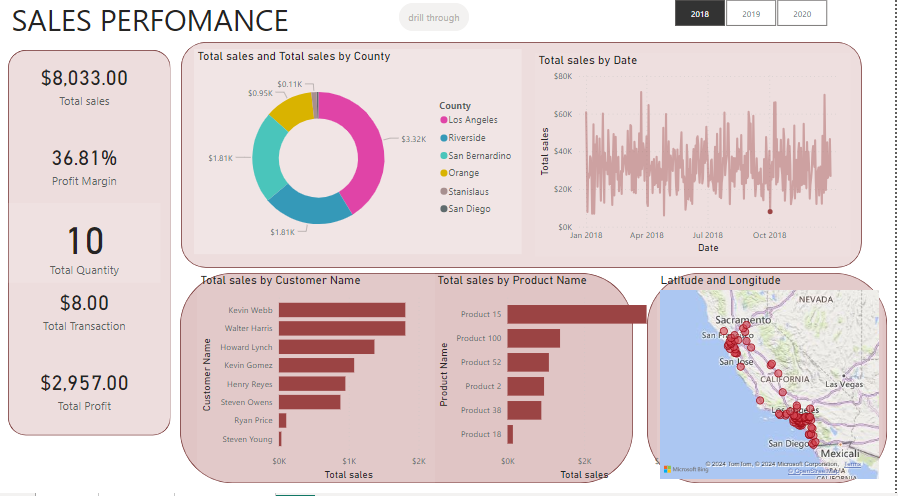

The page's visual inventory and layout, read from the dashboard file:
{"tool":"powerbi","page":{"name":"Page 1","canvas":[1280,720],"ordinal":0},"visuals":[{"type":"basicShape","box":[640.5,65,625.8,231.7],"z":0},{"type":"basicShape","box":[205.5,303,361.7,404.7],"z":1000},{"type":"basicShape","box":[579.7,303,336.5,404.7],"z":2000},{"type":"basicShape","box":[929.9,303,336.5,404.7],"z":3000},{"type":"basicShape","box":[10.5,65,184.5,642.6],"z":4000},{"type":"basicShape","box":[206.5,65,423.5,231.7],"z":5000},{"type":"textbox","box":[10.5,0,513.7,78.6],"z":6000},{"type":"donutChart","fields":{"Category":["Locations.County"],"Y":["Key Measures.Total Sales"]},"box":[209.7,78.6,420.4,218.1],"z":7000},{"type":"barChart","fields":{"Category":["Customers.Customer Name"],"Y":["Key Measures.Total Sales"]},"box":[225.4,314.5,331.3,379.5],"z":8000},{"type":"barChart","fields":{"Category":["Products.Product Name"],"Y":["Key Measures.Total Sales"]},"box":[590.2,314.5,317.6,379.5],"z":9000},{"type":"map","title":"Total Profits by Store Location","fields":{"Size":["Key Measures.Total Profits"],"Y":["Locations.Latitude"],"X":["Locations.Longitude"]},"box":[937.2,314.5,320.8,379.5],"z":10000},{"type":"columnChart","fields":{"Category":["Dates.Date"],"Y":["Key Measures.Total Sales"]},"box":[654.2,78.6,596.5,203.4],"z":11000},{"type":"slicer","fields":{"Values":["Dates.Year"]},"box":[836.6,10.5,233.8,50.3],"z":12000},{"type":"card","fields":{"Values":["Key Measures.Total Sales"]},"box":[11.5,83.9,188.7,101.7],"z":13000},{"type":"card","fields":{"Values":["Key Measures.Total Profits"]},"box":[12.6,193.9,188.7,101.7],"z":14000},{"type":"card","fields":{"Values":["Key Measures.Quantity Sold"]},"box":[12.6,306.1,188.7,101.7],"z":15000},{"type":"card","fields":{"Values":["Key Measures.Total Transactions"]},"box":[12.6,419.3,188.7,101.7],"z":16000},{"type":"card","fields":{"Values":["Key Measures.Profit Margin"]},"box":[14.7,542,188.7,101.7],"z":17000},{"type":"slicer","fields":{"Values":["Dates.Quarters"]},"box":[1046.2,11.5,233.8,50.3],"z":18000}]}

Visuals, with their boxes in screenshot pixels (x1, y1, x2, y2), scaled from the page's 1280x720 canvas onto the 898x496 screenshot:
basicShape: 449:45:888:204
basicShape: 144:209:398:488
basicShape: 407:209:643:488
basicShape: 652:209:888:488
basicShape: 7:45:137:487
basicShape: 145:45:442:204
textbox: 7:0:368:54
donutChart - Locations.County x Key Measures.Total Sales: 147:54:442:204
barChart - Customers.Customer Name x Key Measures.Total Sales: 158:217:391:478
barChart - Products.Product Name x Key Measures.Total Sales: 414:217:637:478
"Total Profits by Store Location" map: 658:217:883:478
columnChart - Dates.Date x Key Measures.Total Sales: 459:54:877:194
slicer - Dates.Year: 587:7:751:42
card - Key Measures.Total Sales: 8:58:140:128
card - Key Measures.Total Profits: 9:134:141:204
card - Key Measures.Quantity Sold: 9:211:141:281
card - Key Measures.Total Transactions: 9:289:141:359
card - Key Measures.Profit Margin: 10:373:143:443
slicer - Dates.Quarters: 734:8:897:43
